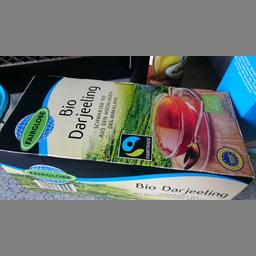tea: (0, 72, 253, 198)
